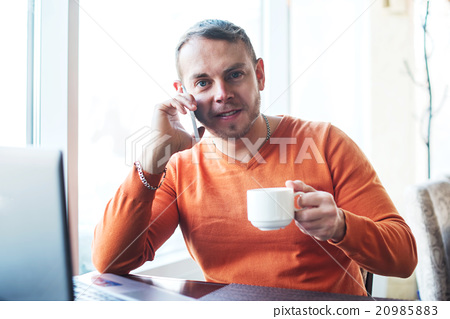phone: (168, 90, 211, 146)
talk: (143, 52, 266, 165)
